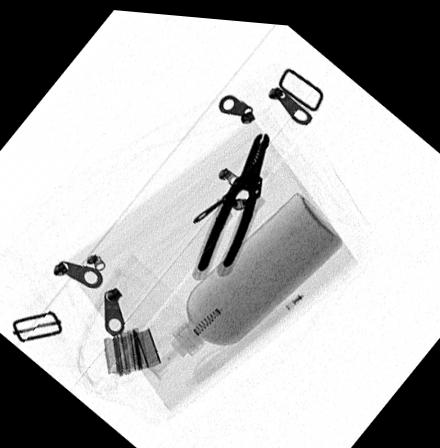Pliers: (194, 126, 270, 270)
